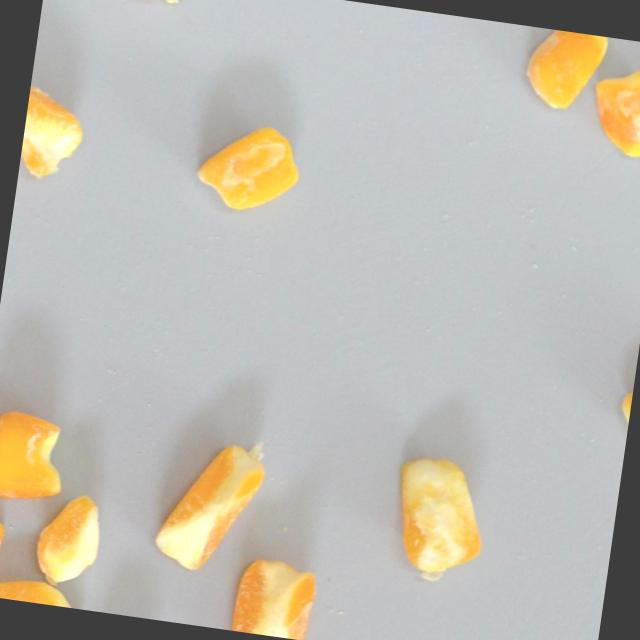dañado: (149, 421, 276, 583), (380, 447, 501, 596), (184, 114, 310, 223), (514, 26, 620, 120), (227, 551, 332, 640), (17, 69, 96, 185), (30, 485, 113, 593), (0, 405, 75, 510), (584, 57, 640, 160), (0, 572, 90, 610)
